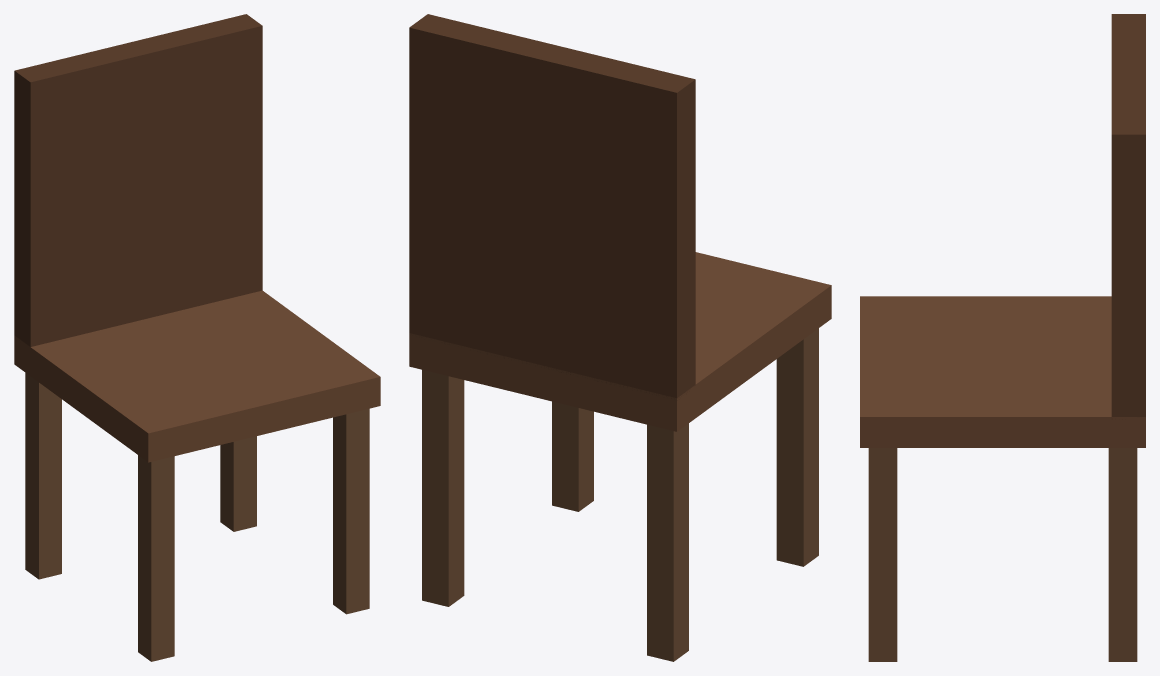
The model's file is chair_leather.glb.
3 views of the same model, side by side, from view 1: azimuth 30°, elevation 25°; view 2: azimuth 150°, elevation 25°; view 3: azimuth 270°, elevation 25° (orthographic). The views are drawn at different scales.
Parts seen in each view (by area): view 1: chair_leather; view 2: chair_leather; view 3: chair_leather.
Boxes of the visible parts, x1=… form: chair_leather: x1=14, y1=14, x2=380, y2=661; chair_leather: x1=409, y1=14, x2=831, y2=661; chair_leather: x1=860, y1=14, x2=1145, y2=661.
Size of the model in its own units: 0.5 by 1.02 by 0.5.
